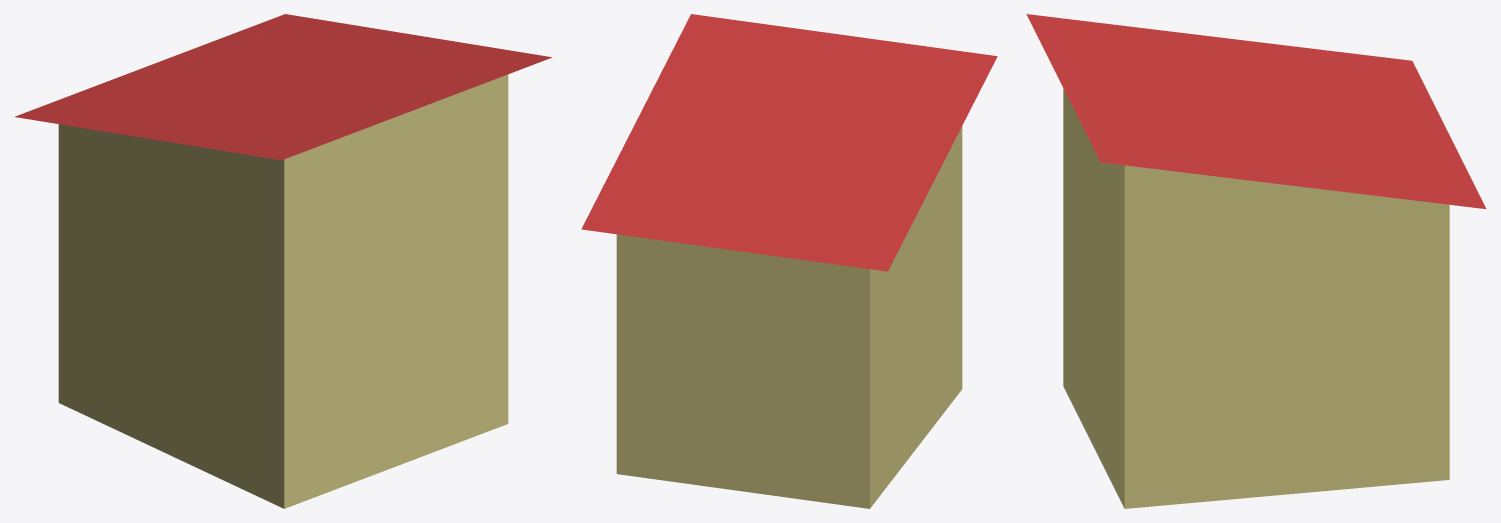
The picture shows the model from 3 angles, left to right: view 1: azimuth 30°, elevation 25°; view 2: azimuth 150°, elevation 25°; view 3: azimuth 270°, elevation 25°; orthographic projection. The views are drawn at different scales.
Bounding box in the file's own units: 6.94 × 7.38 × 6.4.
